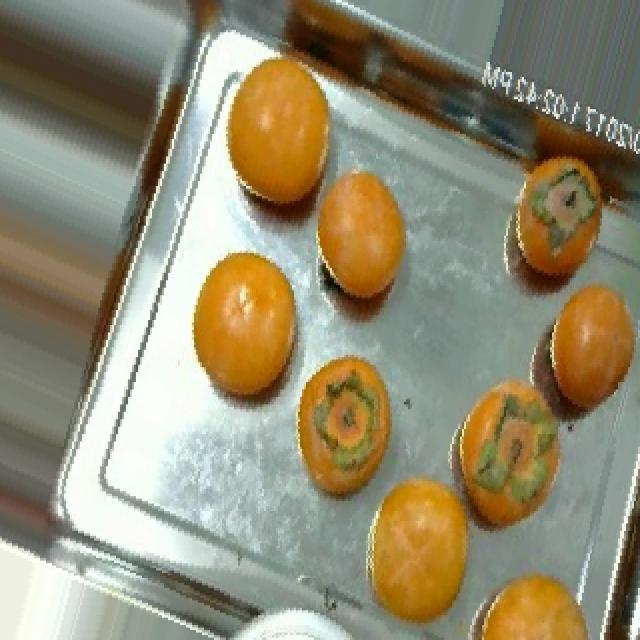Fruit: (434, 357, 600, 561), (204, 30, 358, 243), (174, 226, 322, 442), (348, 454, 498, 640), (302, 146, 426, 345), (280, 337, 414, 521), (492, 149, 624, 322), (526, 260, 640, 437), (466, 558, 606, 640)
